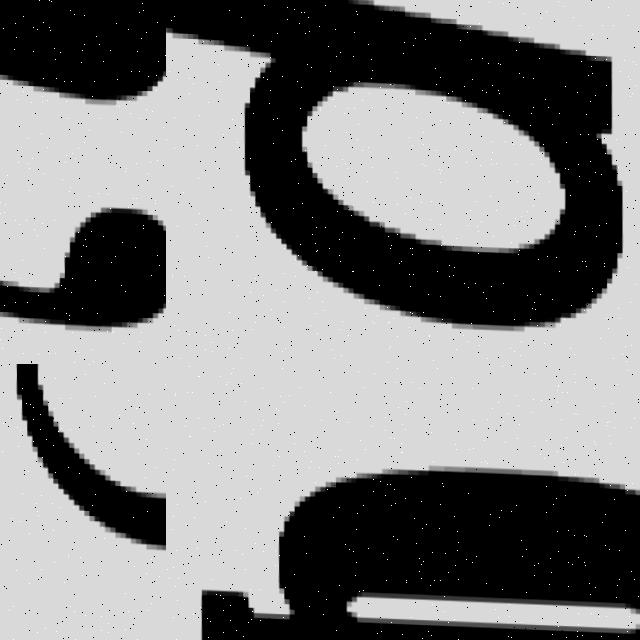3: (0, 364, 166, 568)
P: (166, 0, 619, 329)
Q: (188, 444, 640, 640)
V: (0, 0, 166, 338)
